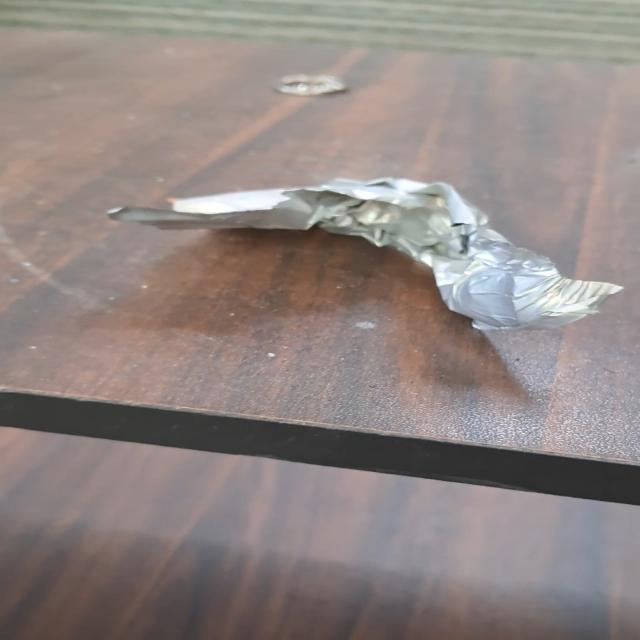Anorganik: (98, 168, 631, 340)
